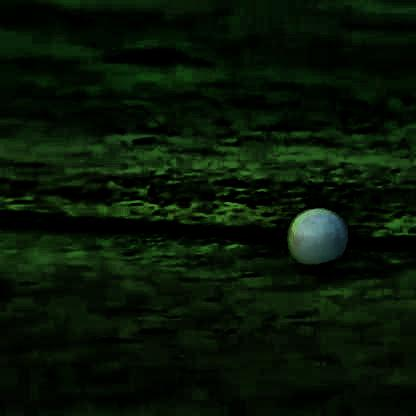golfball: (282, 206, 345, 268)
